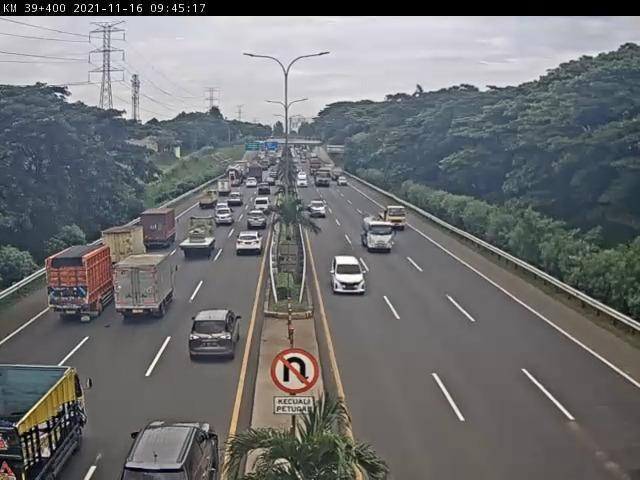car: (189, 309, 243, 363), (329, 256, 369, 296), (235, 237, 263, 261), (244, 218, 267, 241), (309, 201, 330, 222), (213, 210, 233, 229), (254, 198, 273, 217), (228, 191, 247, 208)
truck: (49, 245, 117, 322), (115, 257, 173, 318), (101, 228, 146, 272), (138, 210, 177, 252), (179, 216, 217, 258), (362, 216, 397, 254), (384, 205, 411, 231), (198, 189, 220, 209)
